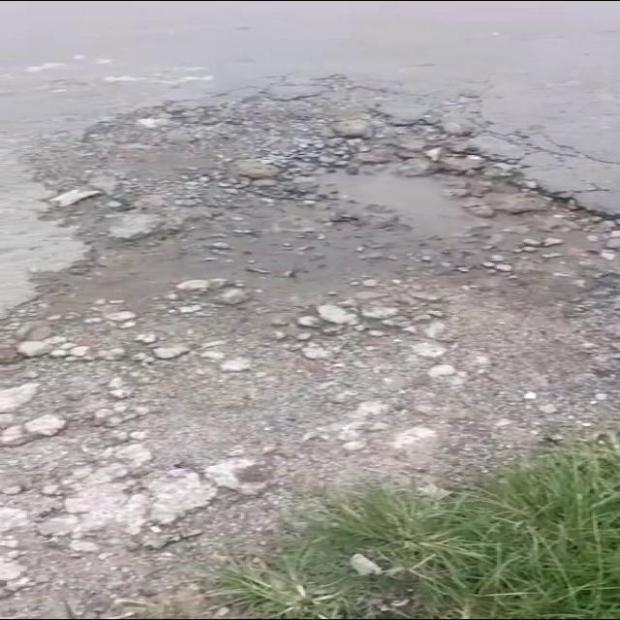lubang: (0, 102, 619, 554)
